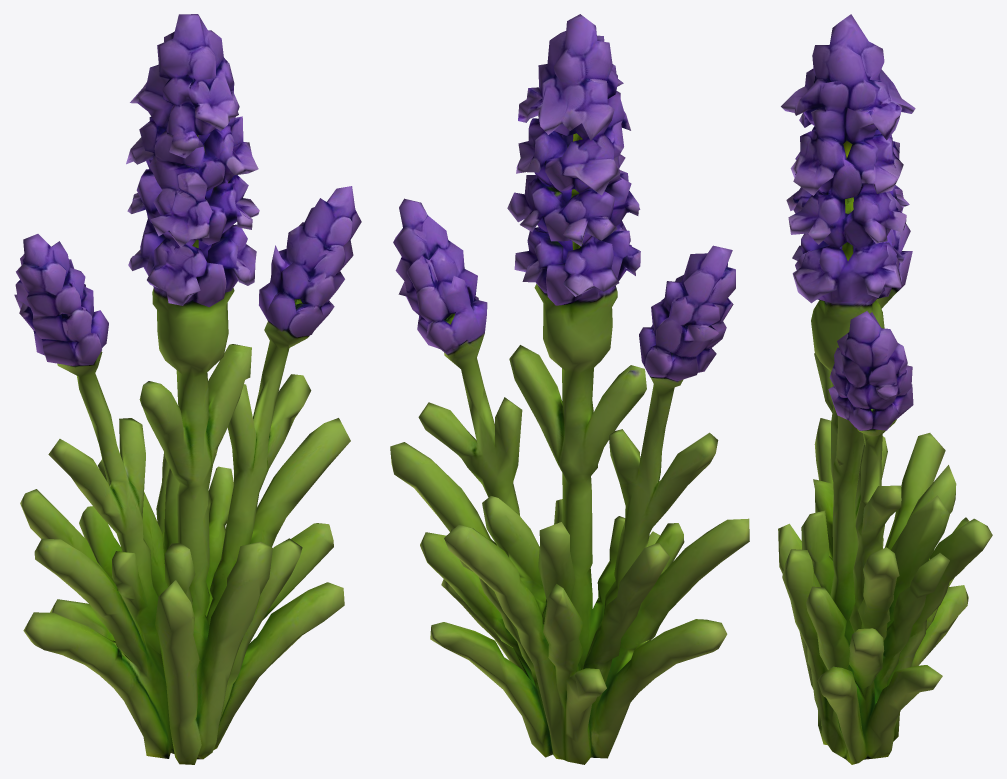
The model's file is lavender_s5.glb.
3 views of the same model, side by side, from view 1: azimuth 30°, elevation 25°; view 2: azimuth 150°, elevation 25°; view 3: azimuth 270°, elevation 25° (orthographic).
Parts seen in each view (by area): view 1: tripo_node_b582ec6c-4e2f-4125-9853-b60b78292721; view 2: tripo_node_b582ec6c-4e2f-4125-9853-b60b78292721; view 3: tripo_node_b582ec6c-4e2f-4125-9853-b60b78292721.
Part boxes in pixels (bbox=[...]): tripo_node_b582ec6c-4e2f-4125-9853-b60b78292721: bbox=[14, 14, 361, 764]; tripo_node_b582ec6c-4e2f-4125-9853-b60b78292721: bbox=[390, 14, 749, 764]; tripo_node_b582ec6c-4e2f-4125-9853-b60b78292721: bbox=[778, 14, 992, 764].
Size of the model in its own units: 0.4772 by 1 by 0.2658.
1 material, 1 textured.
